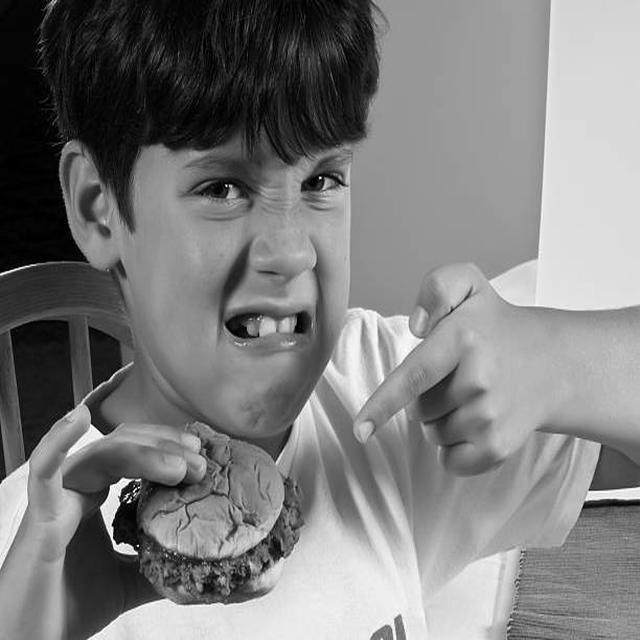Disgust: (127, 98, 352, 437)
